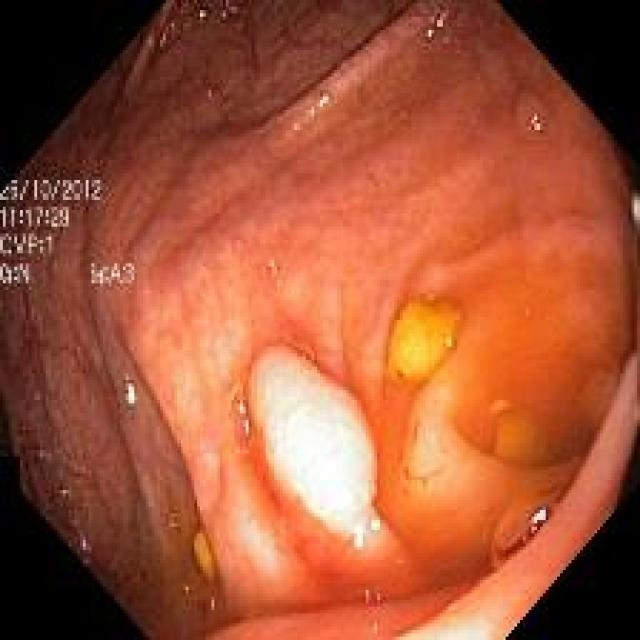Polyps: (250, 349, 381, 550)
